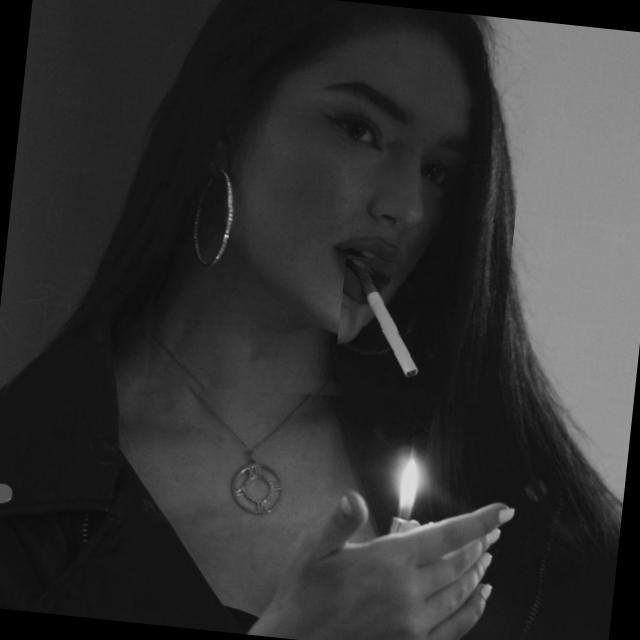cigarette: (332, 255, 448, 392)
